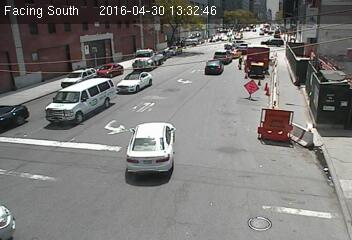neg: (295, 164, 330, 210), (169, 149, 199, 188), (255, 135, 284, 174), (242, 190, 271, 229), (42, 172, 71, 211), (194, 22, 223, 60), (296, 79, 324, 117), (211, 196, 238, 233), (31, 113, 58, 149), (174, 83, 200, 117), (121, 73, 145, 105), (100, 146, 123, 178), (46, 54, 65, 80), (261, 83, 279, 107), (32, 70, 48, 91), (276, 30, 291, 51), (98, 7, 113, 27), (243, 18, 257, 38), (61, 6, 75, 24), (291, 7, 304, 24), (9, 66, 22, 83), (171, 7, 183, 23), (23, 2, 33, 17), (131, 46, 141, 58), (108, 50, 117, 61), (85, 57, 93, 68)
